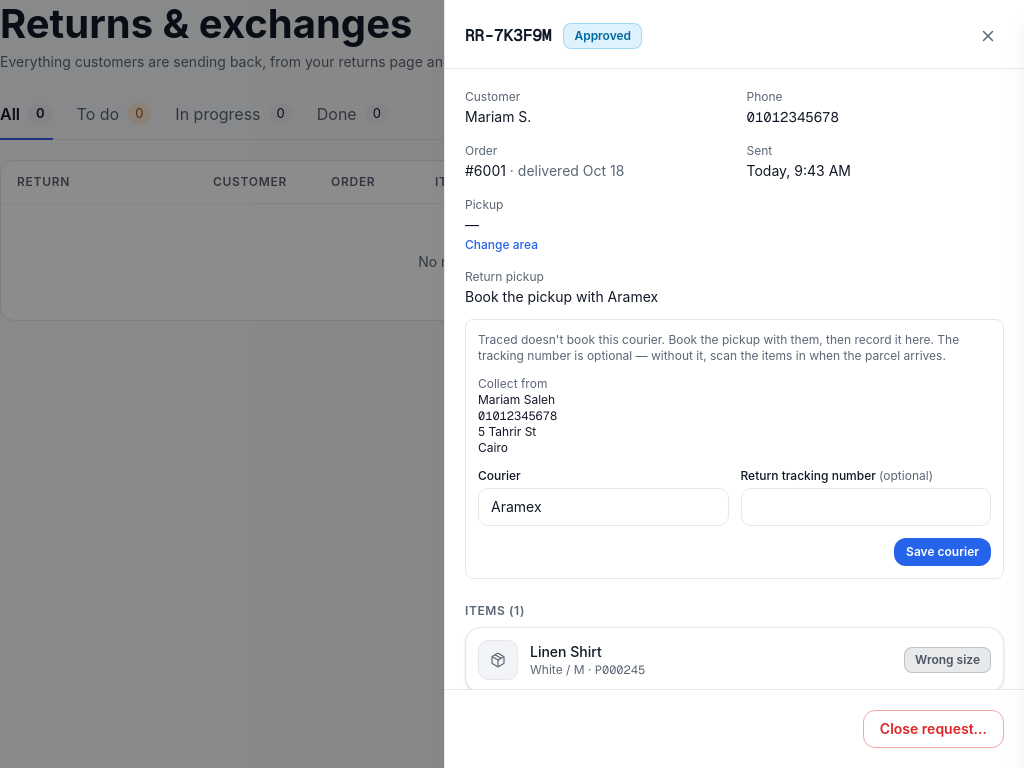
Test: Drawer — a request on an order shipped with another courier › a refusal shows the server message (EN / AR)
Expected: the text "Linen Shirt" is shown, top-left (530, 643), bottom-right (602, 660)
In the field labelled "Return tracking number (optional)": {"x": 866, "y": 507} top-left (740, 488), bottom-right (991, 526), type "AR6001"
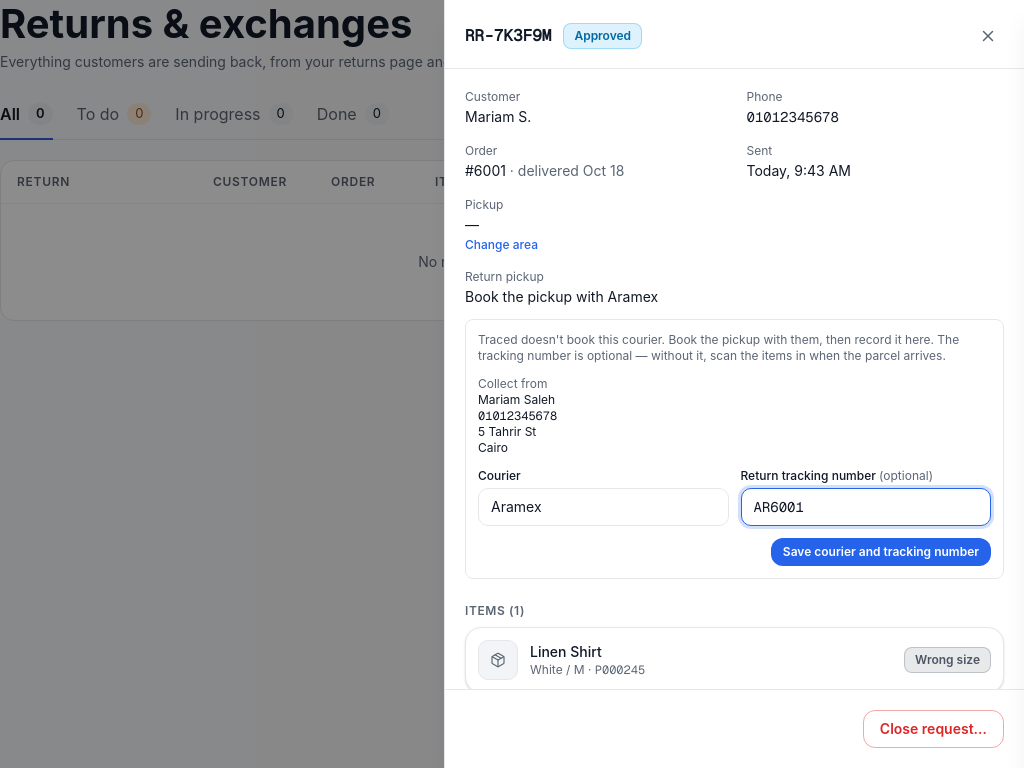
Click the button "Save courier and tracking number": {"x": 881, "y": 552} top-left (771, 538), bottom-right (991, 566)
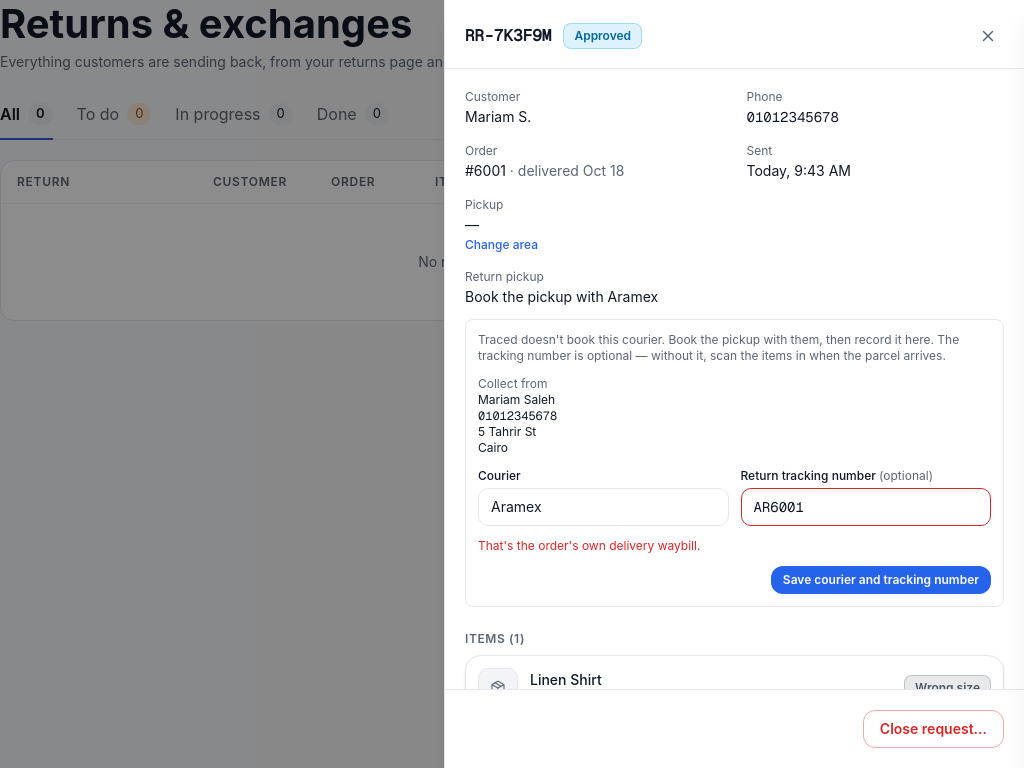
Expected: the message with test id "manual-courier-error" reads "That's the order's own delivery waybill.", top-left (478, 538), bottom-right (700, 553)
